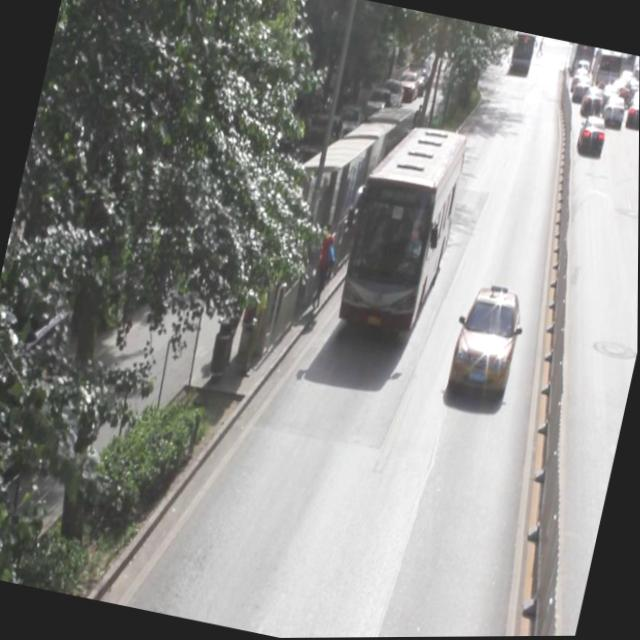car: (445, 281, 525, 401)
van: (336, 116, 468, 335)
